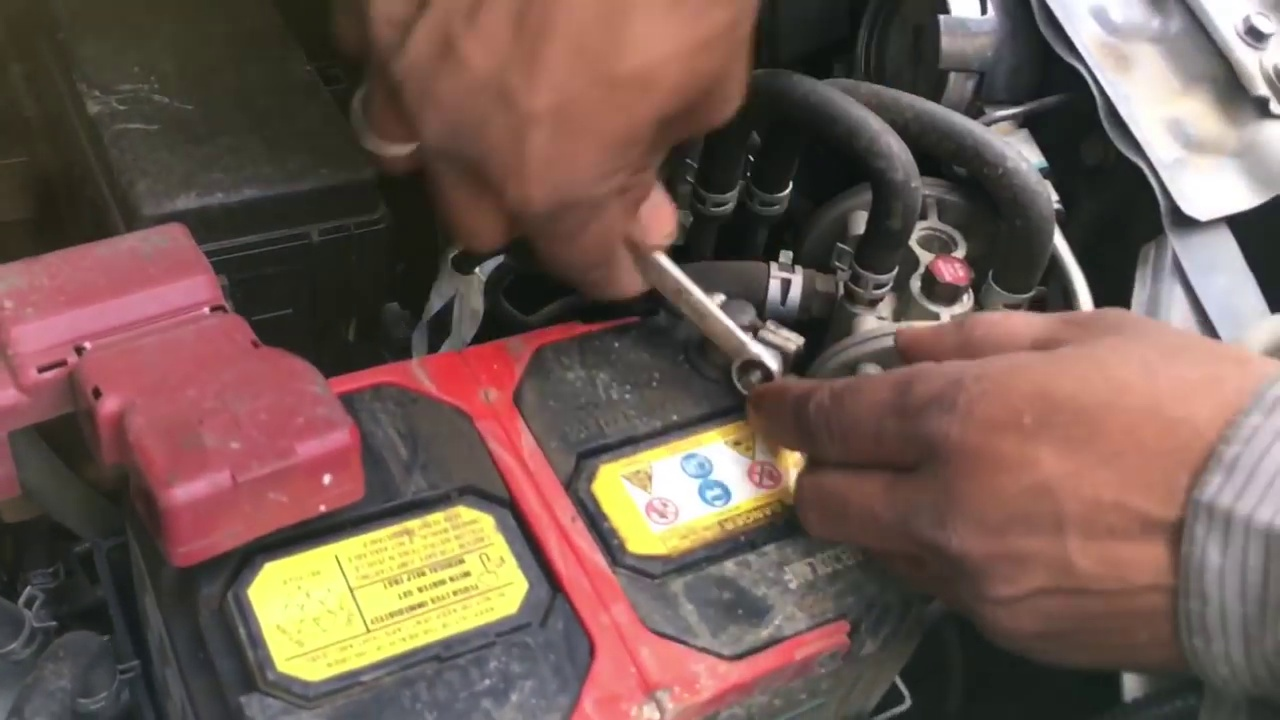battery: (109, 298, 921, 700)
neg_touched: (577, 187, 938, 505)
pos_connected: (62, 225, 379, 546)
